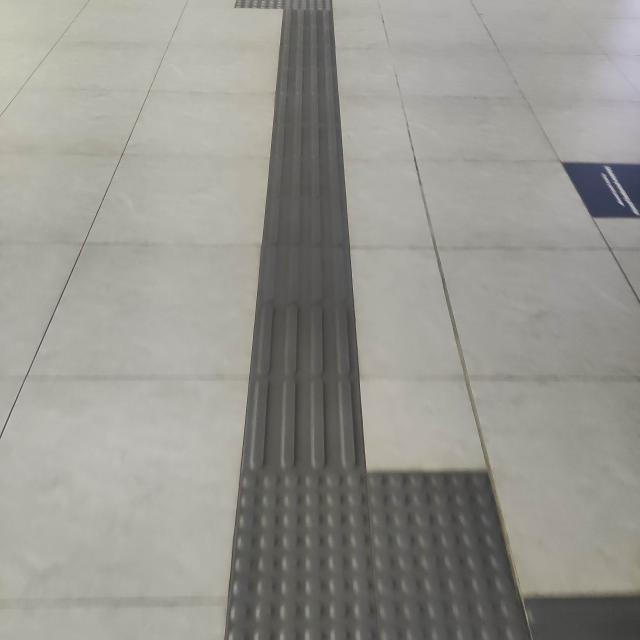lurus: (251, 30, 375, 496)
